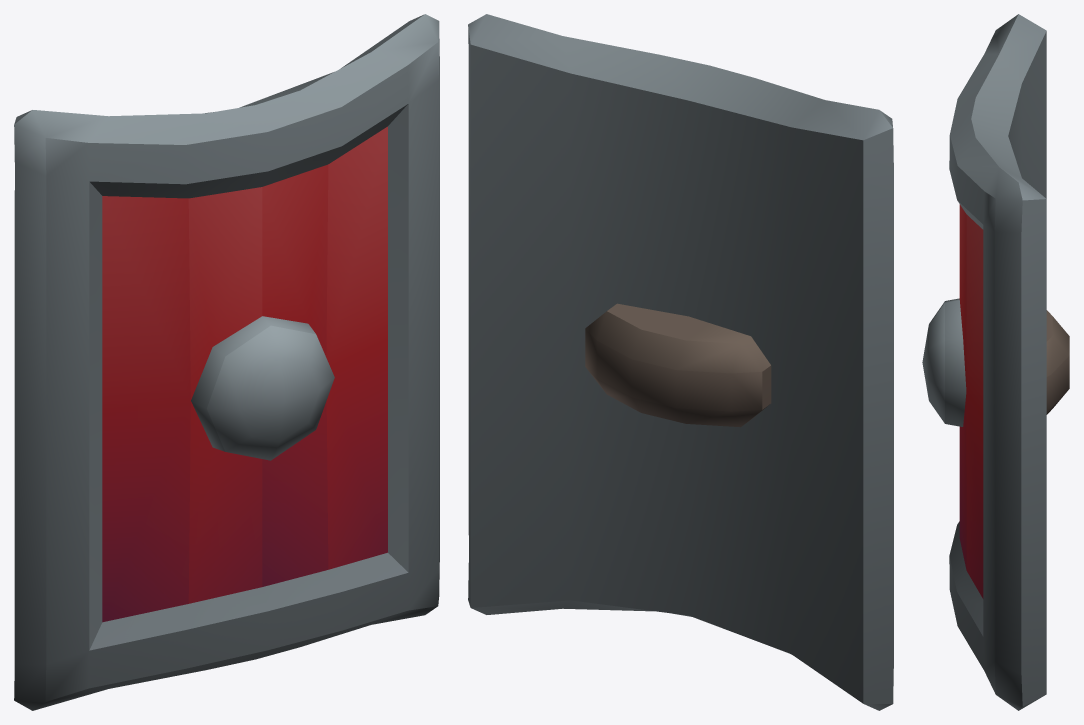
File: gear-shield-square-color.glb
The picture shows the model from 3 angles, left to right: view 1: azimuth 30°, elevation 25°; view 2: azimuth 150°, elevation 25°; view 3: azimuth 270°, elevation 25°; orthographic projection. The views are drawn at different scales.
Visible parts, largest first — view 1: shield_square_color; view 2: shield_square_color; view 3: shield_square_color.
Boxes of the visible parts, left/top/right/bottom form: shield_square_color: left=14, top=14, right=439, bottom=710; shield_square_color: left=468, top=14, right=893, bottom=710; shield_square_color: left=922, top=14, right=1069, bottom=710.
Size of the model in its own units: 0.8826 by 1.19 by 0.3011.
